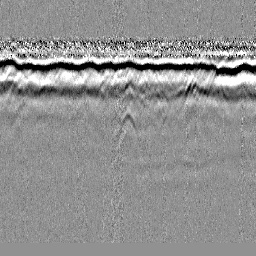cavity: (116, 106, 140, 149)
